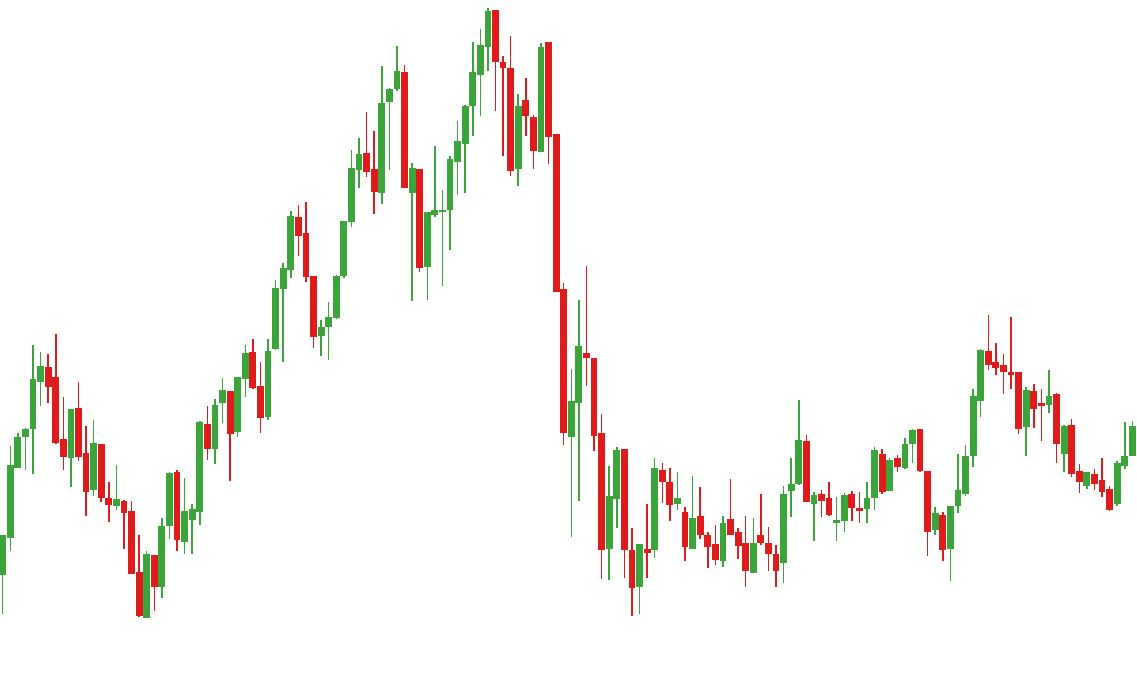buy: (841, 467, 941, 568), (705, 518, 758, 595)
sell: (392, 4, 500, 167)
